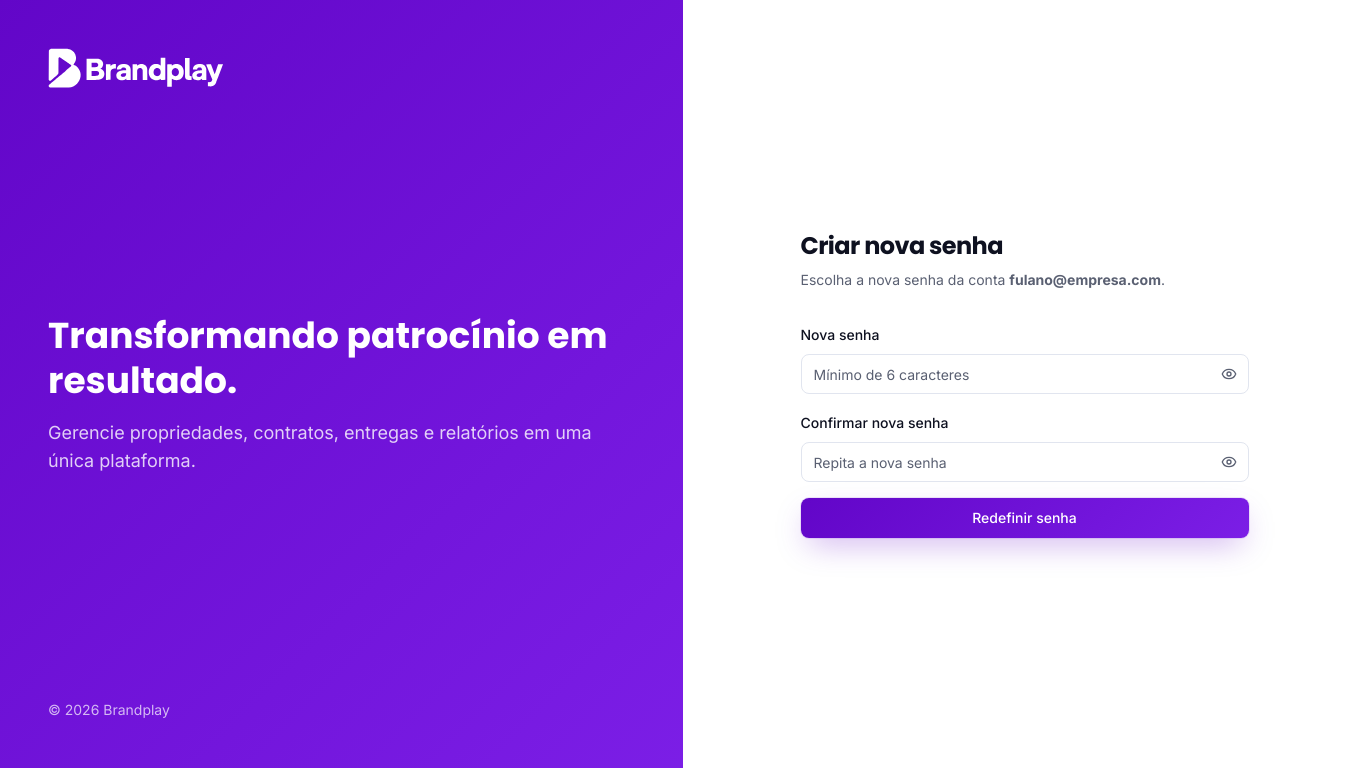
Test: ResetarSenha › troca a senha da conta da sessão e mostra a conclusão
Expected: the text "fulano@empresa.com" is shown, [1009,271,1161,288]
Type "nova-senha" into the password field labelled "Nova senha" at (1024,374), box [800,354,1248,394]
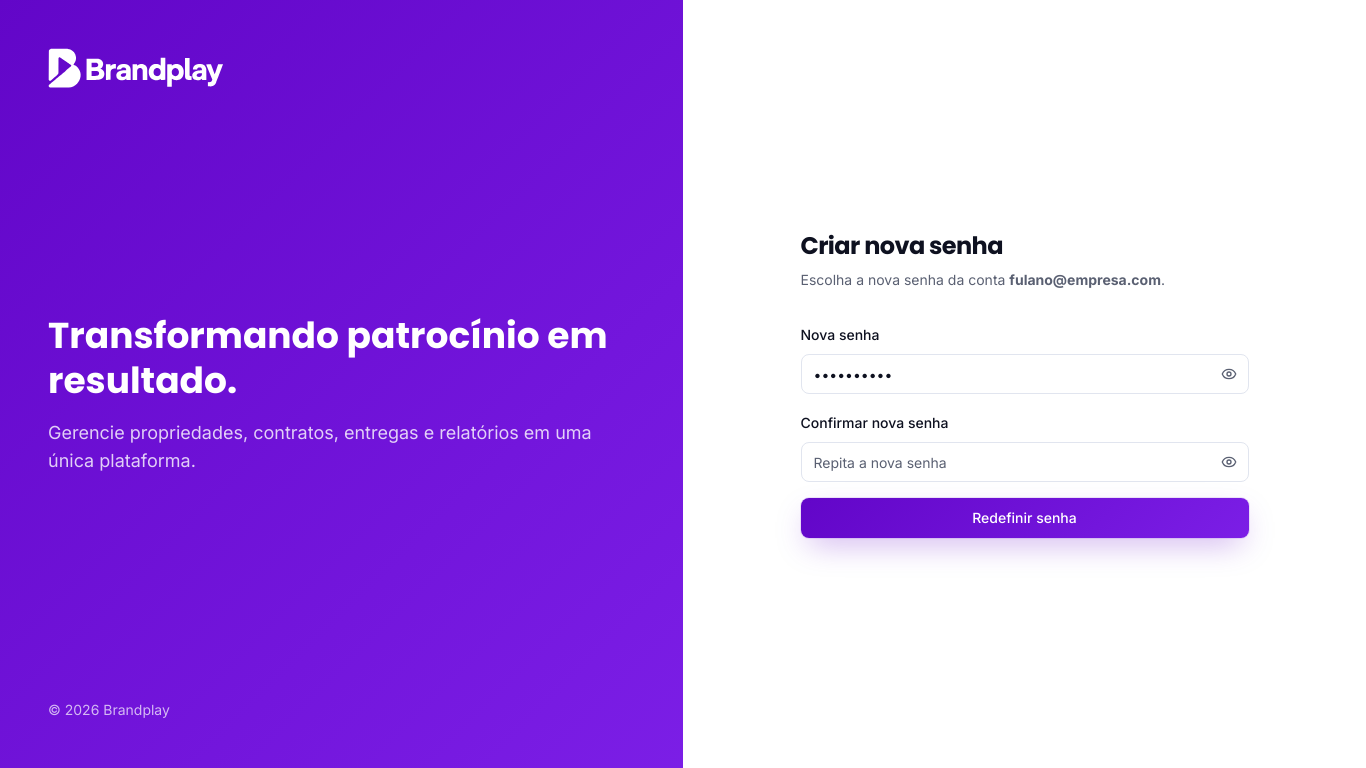
Type "nova-senha" into the password field labelled "Confirmar nova senha" at (1024,462), box [800,442,1248,482]
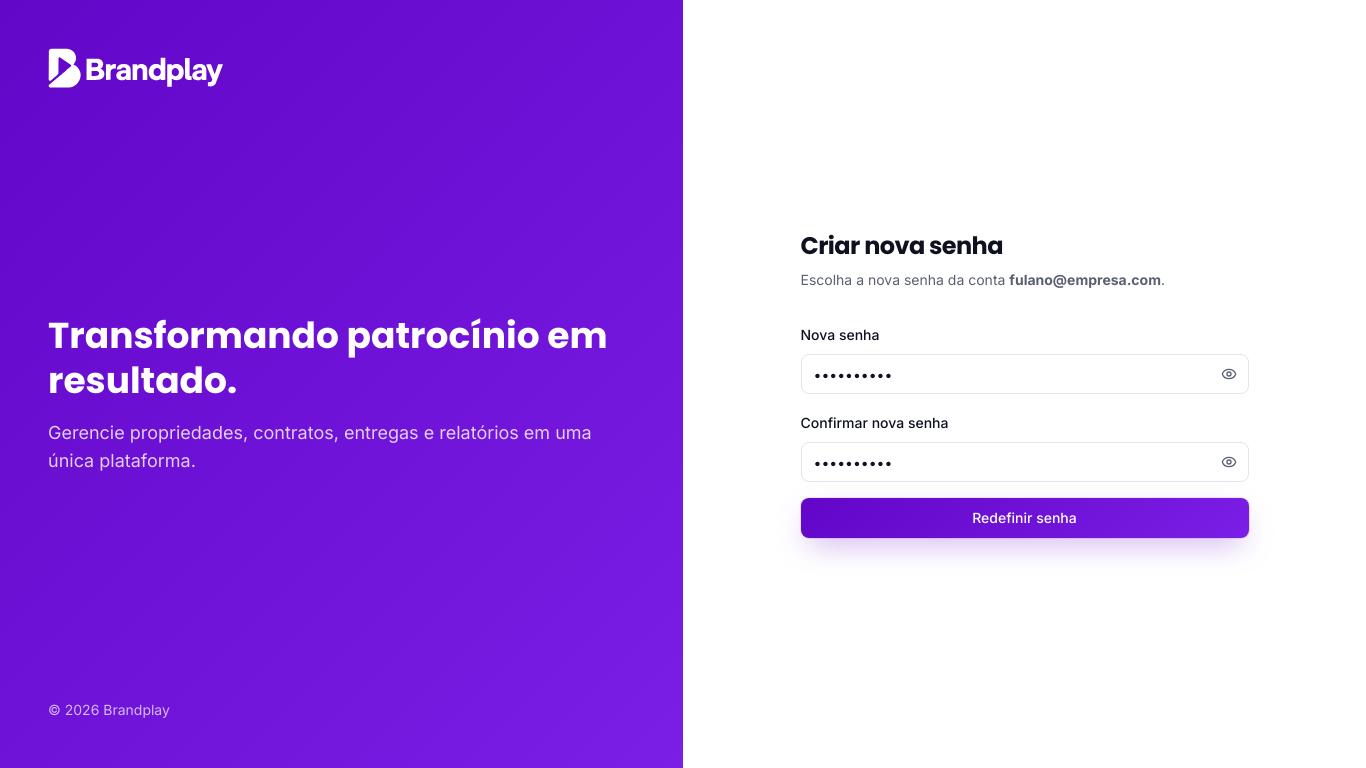
Click the button "Redefinir senha" at (1024,518), box [800,498,1248,538]
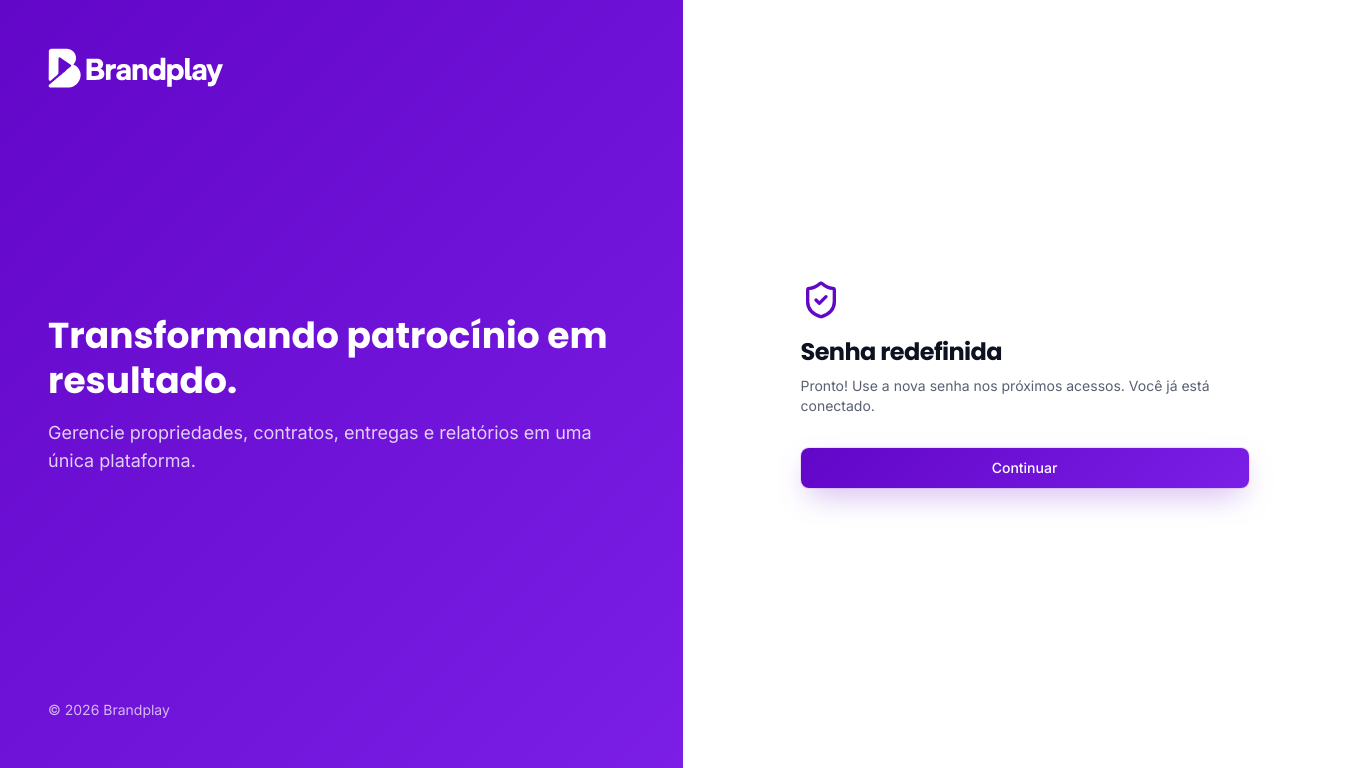
Result: the heading "Senha redefinida" is shown at [800,335,1002,368]
